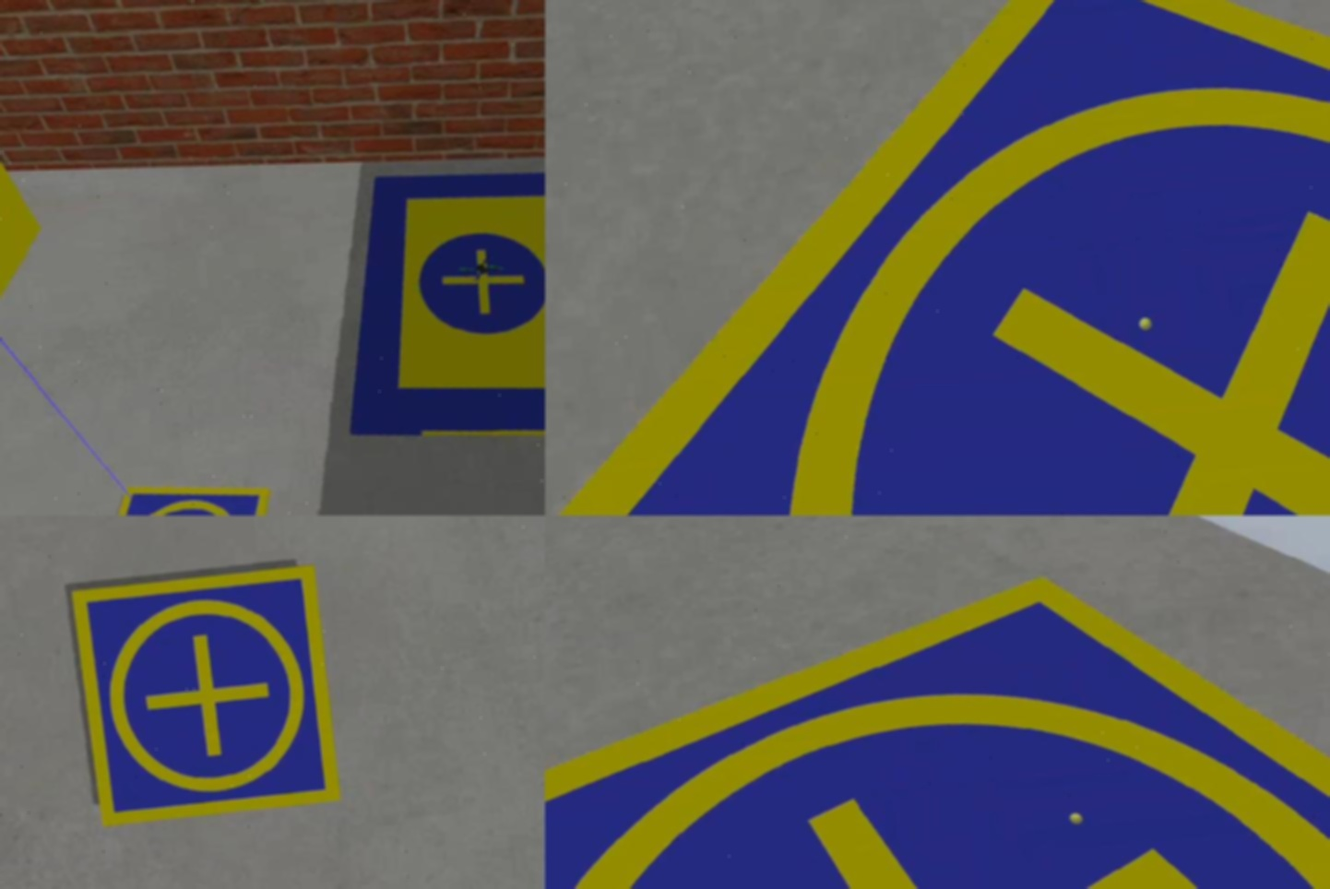large_base: (328, 148, 545, 462)
small_base: (545, 1, 1330, 516), (545, 531, 1330, 889), (68, 565, 343, 827), (65, 475, 283, 516)
